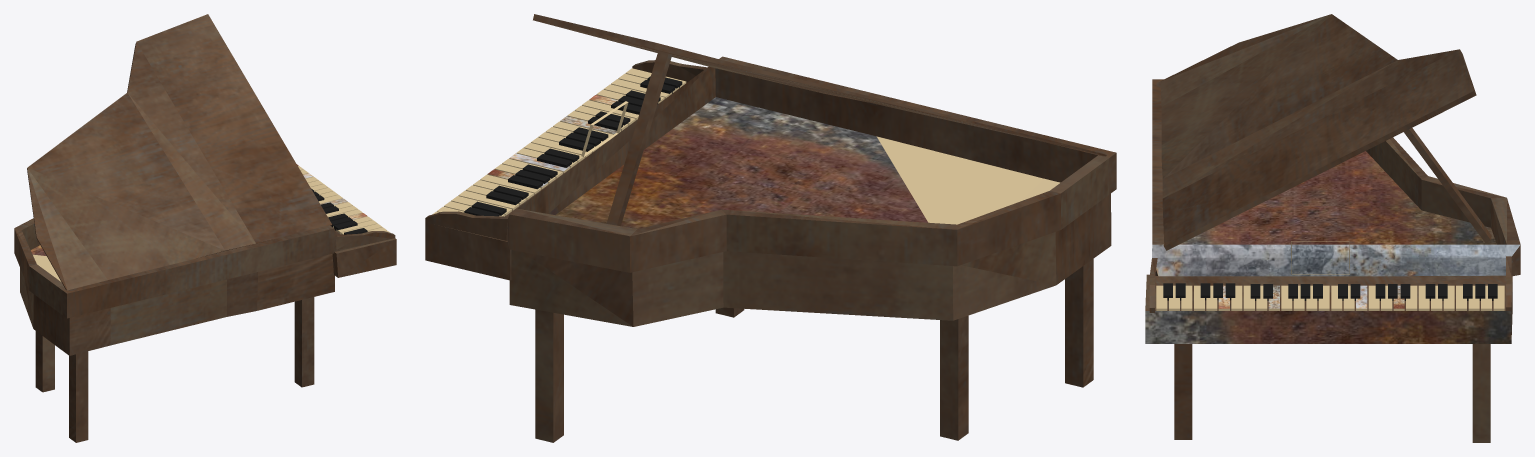
Rendered from piano.fbx.
3 renders of one model, left to right at view 1: azimuth 30°, elevation 25°; view 2: azimuth 150°, elevation 25°; view 3: azimuth 270°, elevation 25°, orthographic. The views are drawn at different scales.
Parts seen in each view (by area): view 1: piano; view 2: piano; view 3: piano.
Boxes of the visible parts, <box> form: piano: <box>14,14,396,442</box>; piano: <box>425,14,1116,442</box>; piano: <box>1145,14,1520,442</box>.
Bounding box in the file's own units: 345 × 284 × 271.
